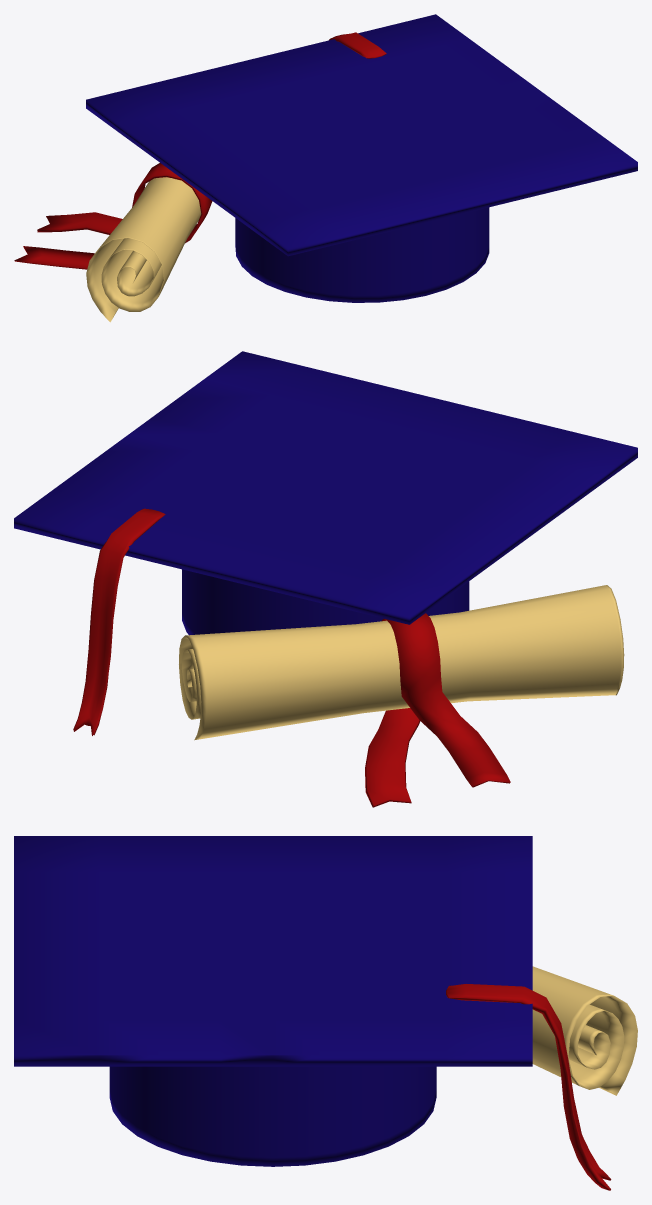
File: graduation.glb
3 renders of one model, top to bottom at view 1: azimuth 30°, elevation 25°; view 2: azimuth 150°, elevation 25°; view 3: azimuth 270°, elevation 25°, orthographic. The views are drawn at different scales.
Visible parts, largest first — view 1: Cylinder_2, BezierCurve_3, Plane_4; view 2: Cylinder_2, BezierCurve_3, Plane_4; view 3: Cylinder_2, BezierCurve_3, Plane_4.
Part boxes in pixels (x1,y1,x2,y2): Cylinder_2: [86, 14, 637, 302]; BezierCurve_3: [14, 163, 212, 322]; Plane_4: [329, 32, 386, 58]; Cylinder_2: [14, 351, 637, 635]; BezierCurve_3: [179, 585, 624, 807]; Plane_4: [73, 508, 165, 735]; Cylinder_2: [14, 836, 532, 1166]; BezierCurve_3: [532, 966, 637, 1095]; Plane_4: [446, 984, 611, 1190].
Size of the model in its own units: 13.43 by 4.42 by 12.71.
